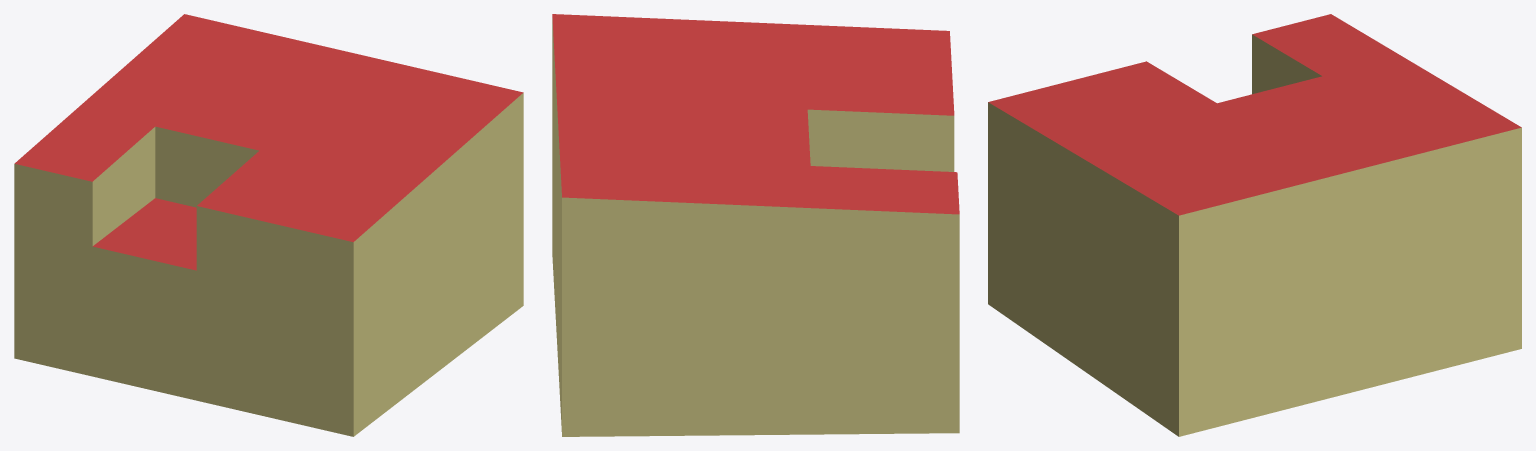
3 views of the same model, side by side, from view 1: azimuth 30°, elevation 25°; view 2: azimuth 150°, elevation 25°; view 3: azimuth 270°, elevation 25° (orthographic). The views are drawn at different scales.
Bounding box in the file's own units: 24.44 × 24.97 × 11.42.
